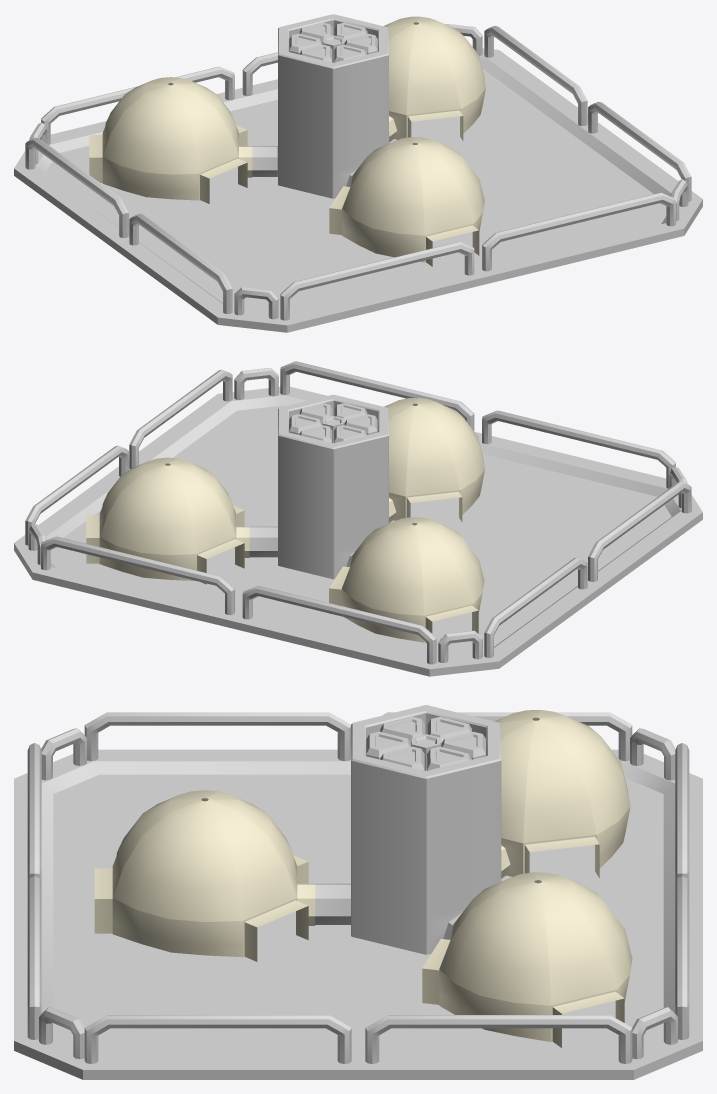
Rendered from CommandCenter_low.fbx.
3 renders of one model, top to bottom at view 1: azimuth 30°, elevation 25°; view 2: azimuth 150°, elevation 25°; view 3: azimuth 270°, elevation 25°, orthographic. The views are drawn at different scales.
Visible parts, largest first — view 1: Shape003, Cylinder008, 01.CommandCenter003, 01.CommandCenter005, 01.CommandCenter004; view 2: Shape003, Cylinder008, 01.CommandCenter004, 01.CommandCenter003, 01.CommandCenter005; view 3: Shape003, Cylinder008, 01.CommandCenter005, 01.CommandCenter004, 01.CommandCenter003, Group011, Group008, Group013, Group012, Group010, Group009.
Part boxes in pixels (x1,y1,x2,y2): Shape003: [14, 24, 702, 332]; Cylinder008: [252, 14, 390, 198]; 01.CommandCenter003: [89, 77, 252, 203]; 01.CommandCenter005: [329, 137, 484, 266]; 01.CommandCenter004: [384, 16, 485, 142]; Shape003: [14, 361, 702, 676]; Cylinder008: [249, 394, 389, 579]; 01.CommandCenter004: [86, 457, 249, 584]; 01.CommandCenter003: [329, 517, 484, 642]; 01.CommandCenter005: [384, 398, 484, 522]; Shape003: [14, 712, 702, 1079]; Cylinder008: [315, 705, 501, 954]; 01.CommandCenter005: [94, 790, 315, 961]; 01.CommandCenter004: [422, 872, 632, 1047]; 01.CommandCenter003: [495, 710, 630, 878]; Group011: [366, 731, 410, 759]; Group008: [441, 731, 485, 759]; Group013: [427, 716, 471, 746]; Group012: [380, 716, 424, 746]; Group010: [380, 746, 424, 770]; Group009: [427, 746, 471, 770].
Bounding box in the file's own units: 1045 × 272 × 950.
